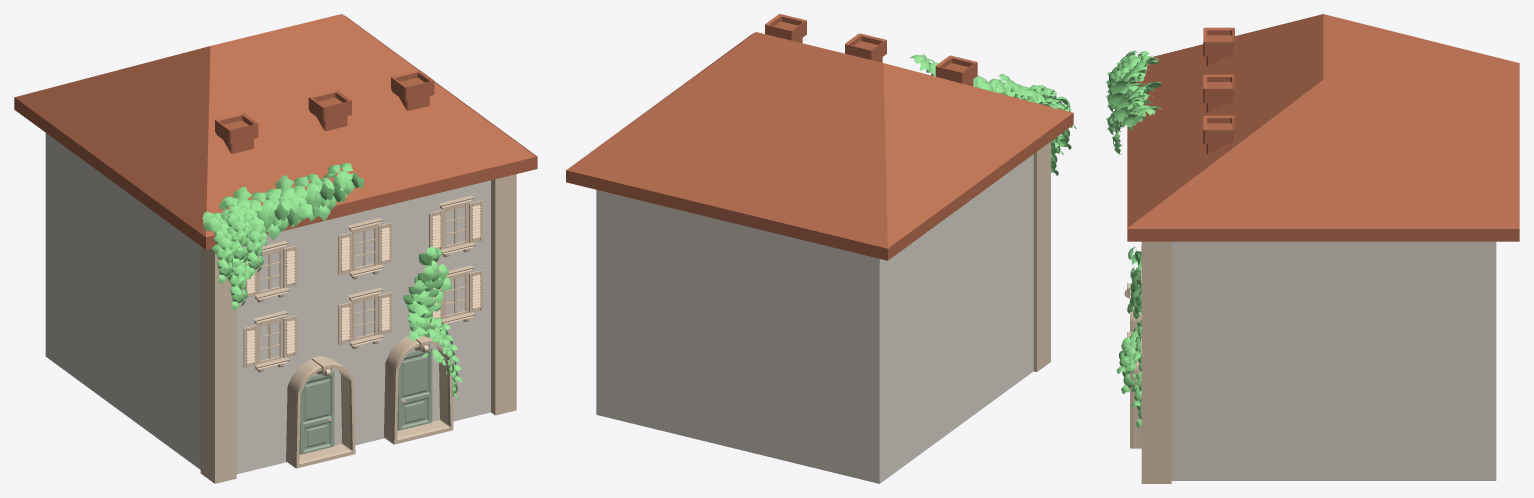
The model's file is DowntownHouse1.fbx.
3 renders of one model, left to right at view 1: azimuth 30°, elevation 25°; view 2: azimuth 150°, elevation 25°; view 3: azimuth 270°, elevation 25°, orthographic. The views are drawn at different scales.
Parts seen in each view (by area): view 1: pasted__polySurface1415; view 2: pasted__polySurface1415; view 3: pasted__polySurface1415.
Part boxes in pixels (<box>): pasted__polySurface1415: <box>14,14,537,483</box>; pasted__polySurface1415: <box>566,14,1076,483</box>; pasted__polySurface1415: <box>1105,14,1519,483</box>.
Size of the model in its own units: 32.66 by 33.18 by 34.49.
